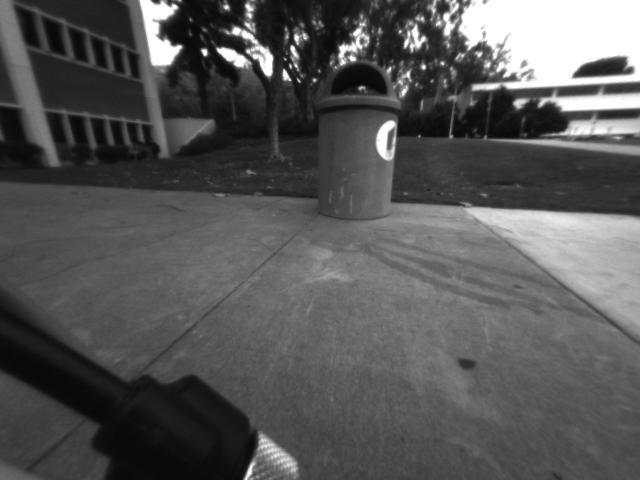trashcan: (314, 59, 397, 221)
